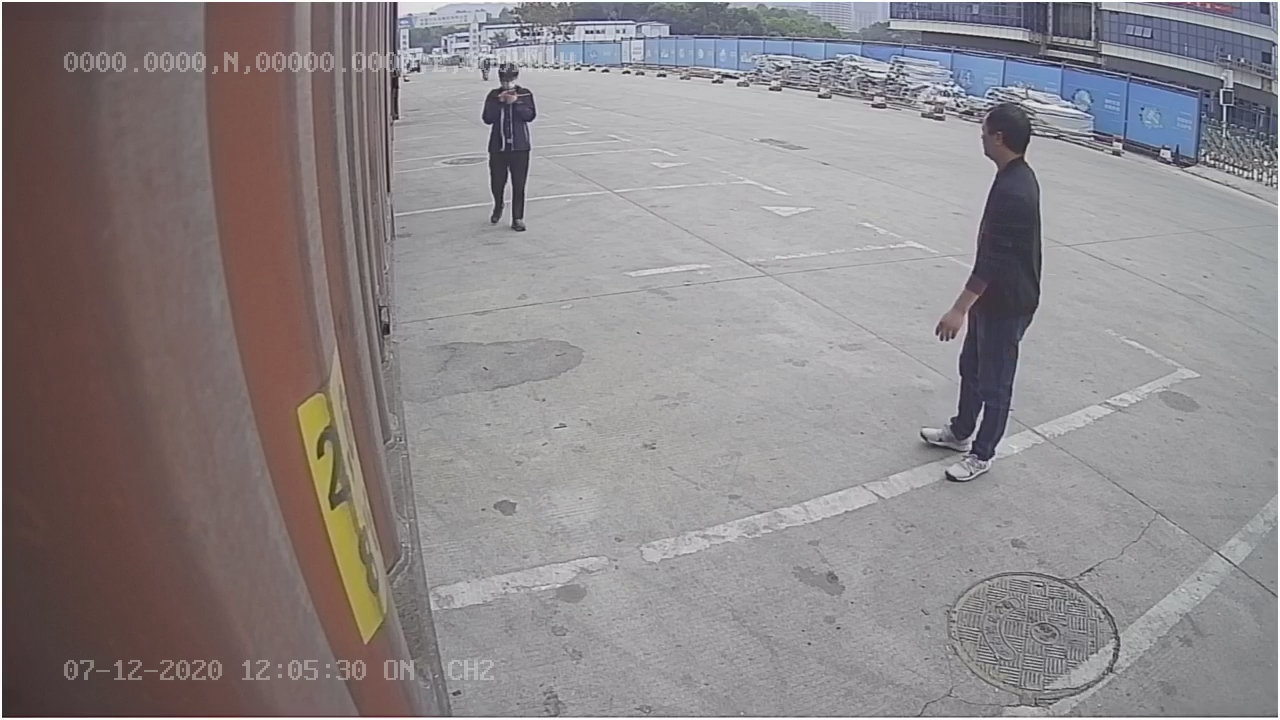person: (915, 102, 1054, 481)
